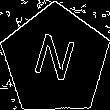N_S: (30, 31, 81, 90)
